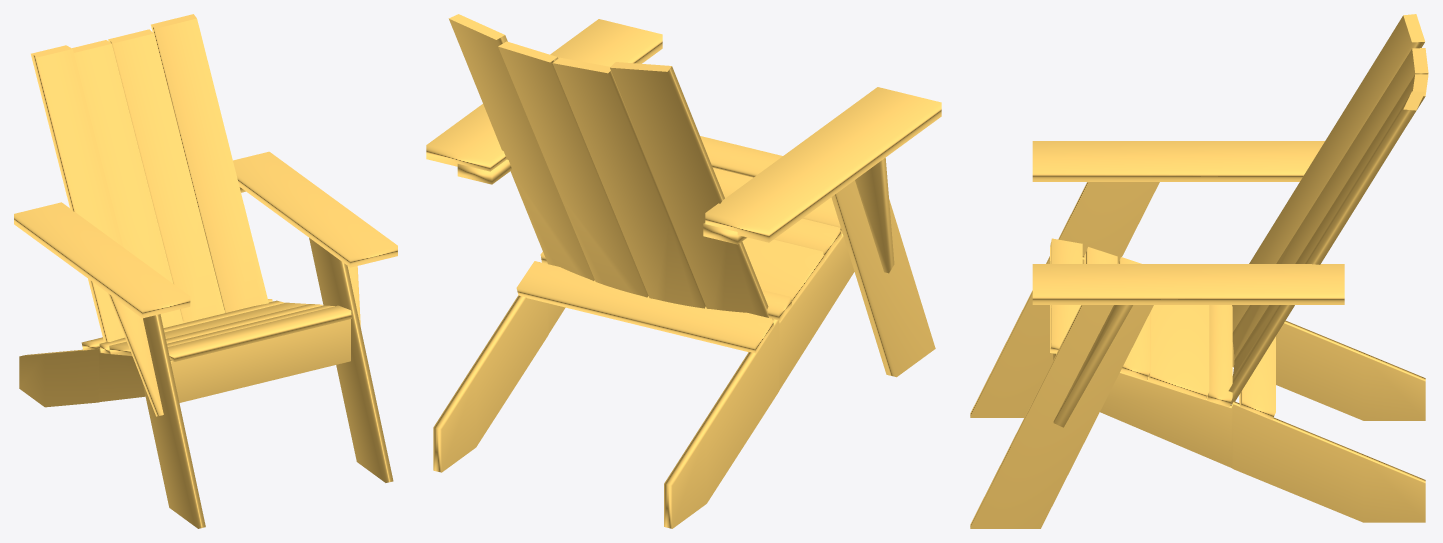
The picture shows the model from 3 angles, left to right: view 1: azimuth 30°, elevation 25°; view 2: azimuth 150°, elevation 25°; view 3: azimuth 270°, elevation 25°; orthographic projection. The views are drawn at different scales.
Visible parts, largest first — view 1: AdirondackChair.003; view 2: AdirondackChair.003; view 3: AdirondackChair.003.
Boxes of the visible parts, x1=… form: AdirondackChair.003: x1=14, y1=14, x2=397, y2=528; AdirondackChair.003: x1=426, y1=14, x2=941, y2=528; AdirondackChair.003: x1=970, y1=14, x2=1428, y2=528.
Size of what is drawn, in the model's own units: 1.07 by 1.35 by 1.37.
1 material, 1 textured.
